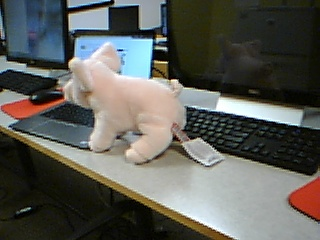piggy: (62, 42, 188, 164)
